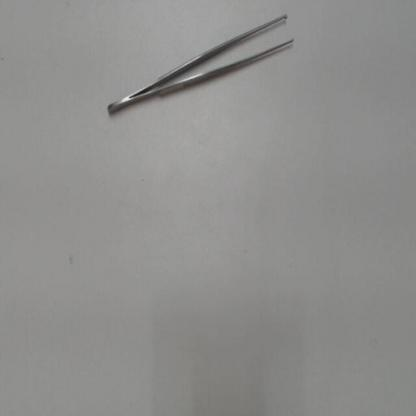Gillies Toothed Dissector: (98, 3, 308, 125)
